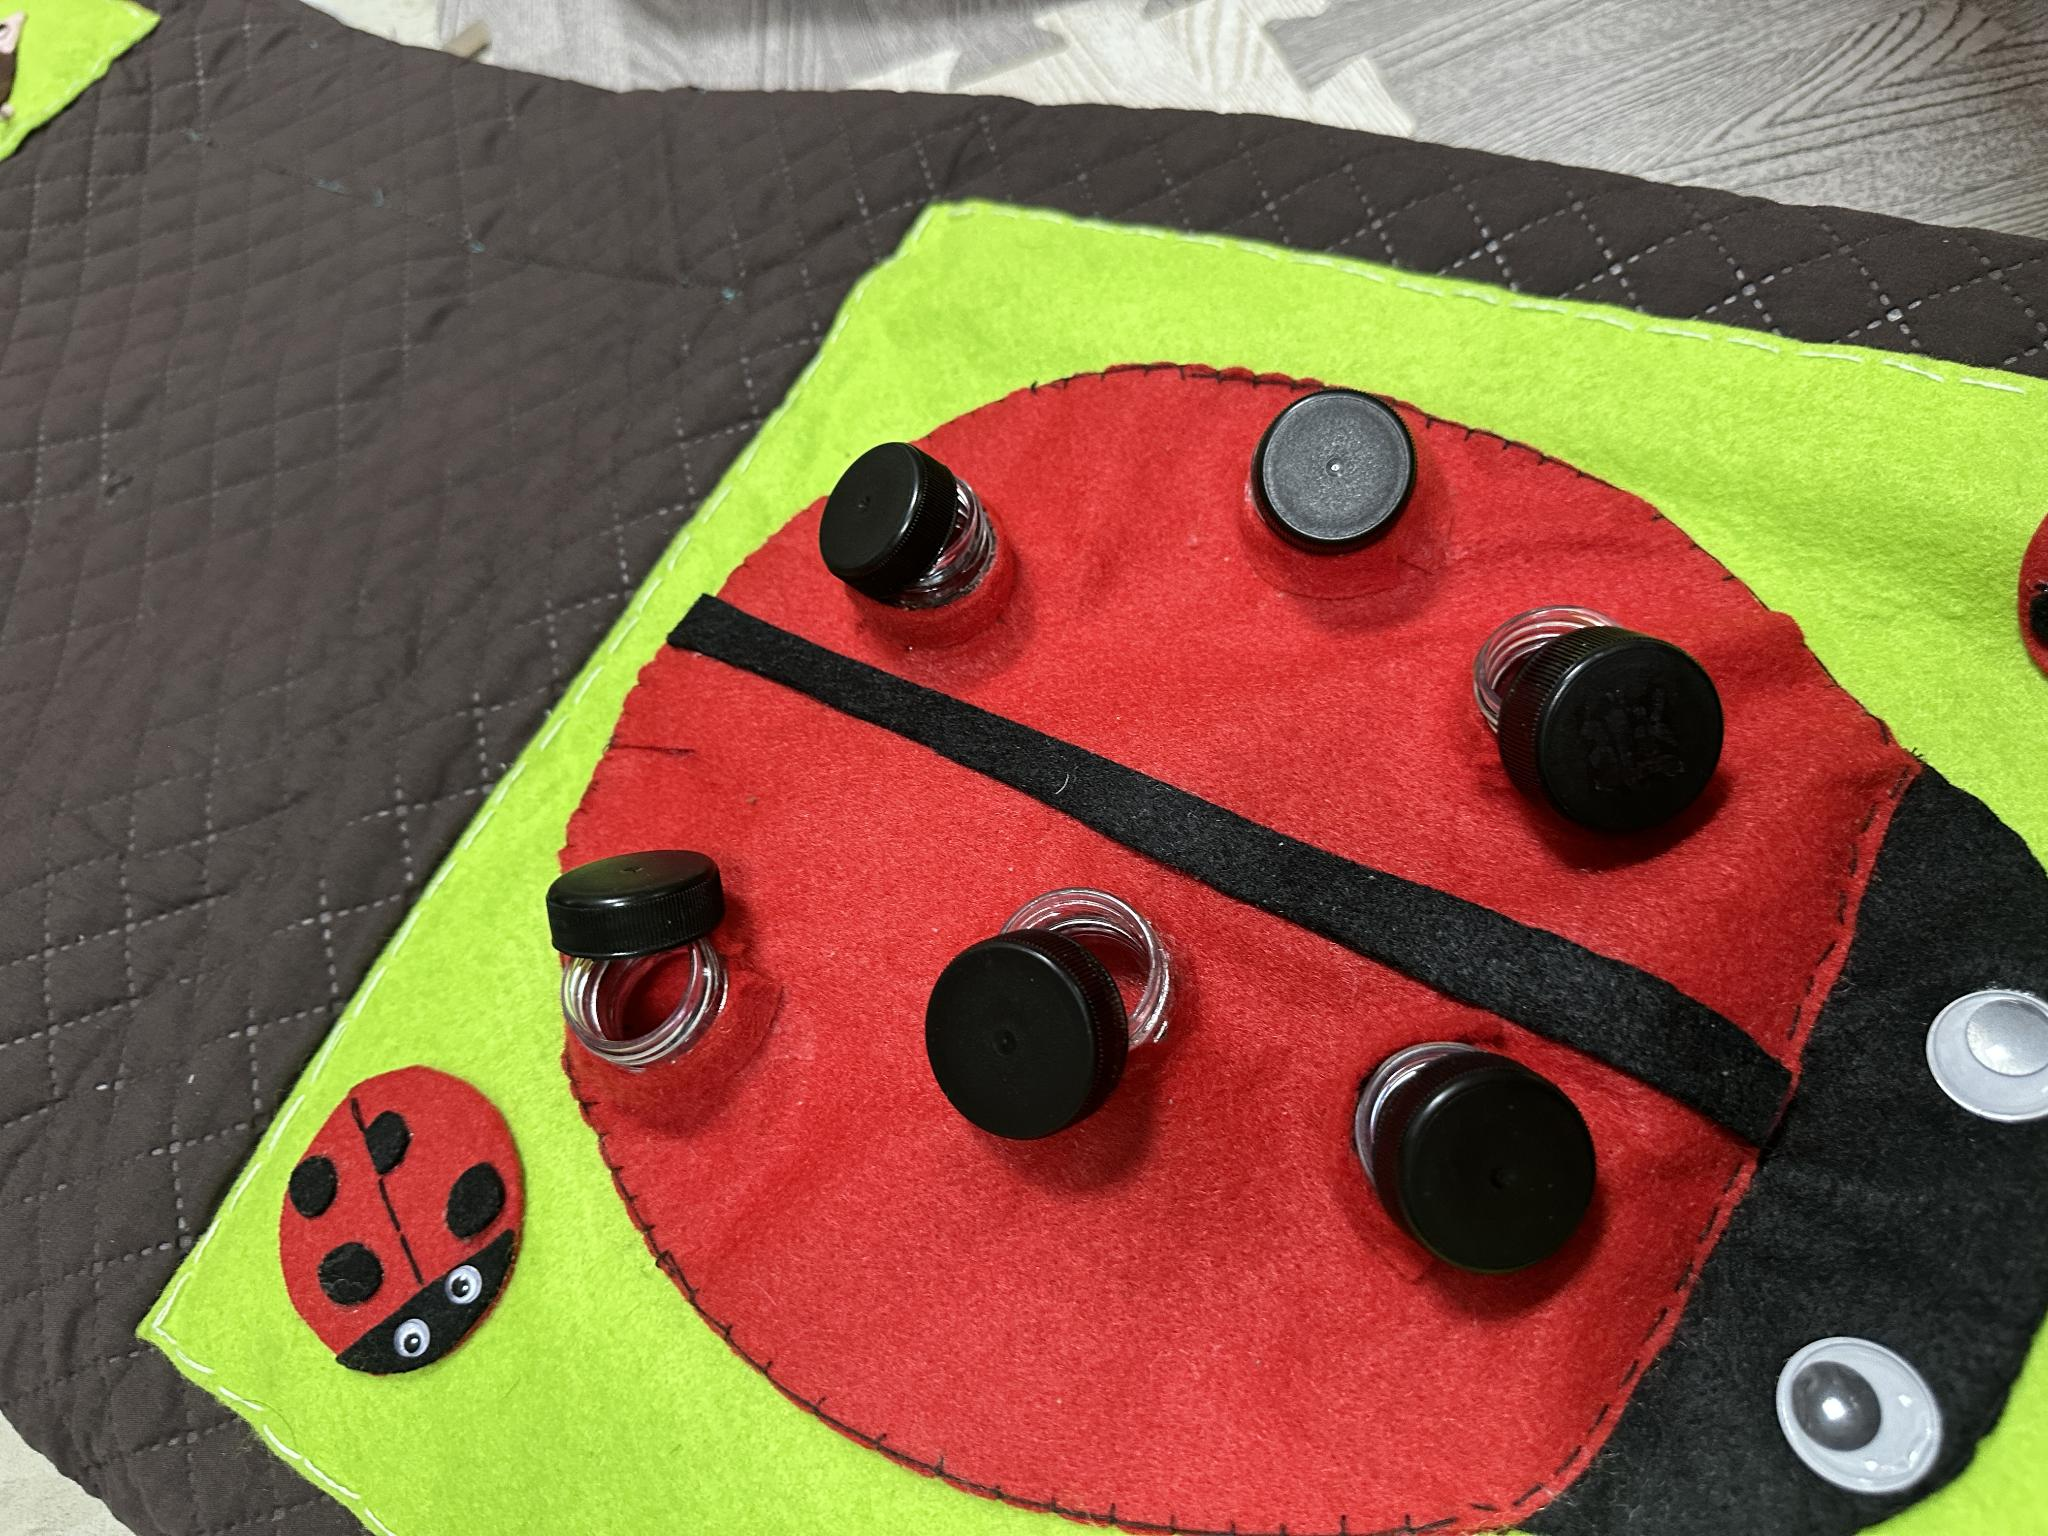cap_ng: (889, 865, 1253, 1189), (1434, 579, 1746, 870), (1308, 1013, 1600, 1310), (495, 824, 764, 1112), (819, 418, 1024, 658)
cap_ok: (1205, 366, 1458, 589)
